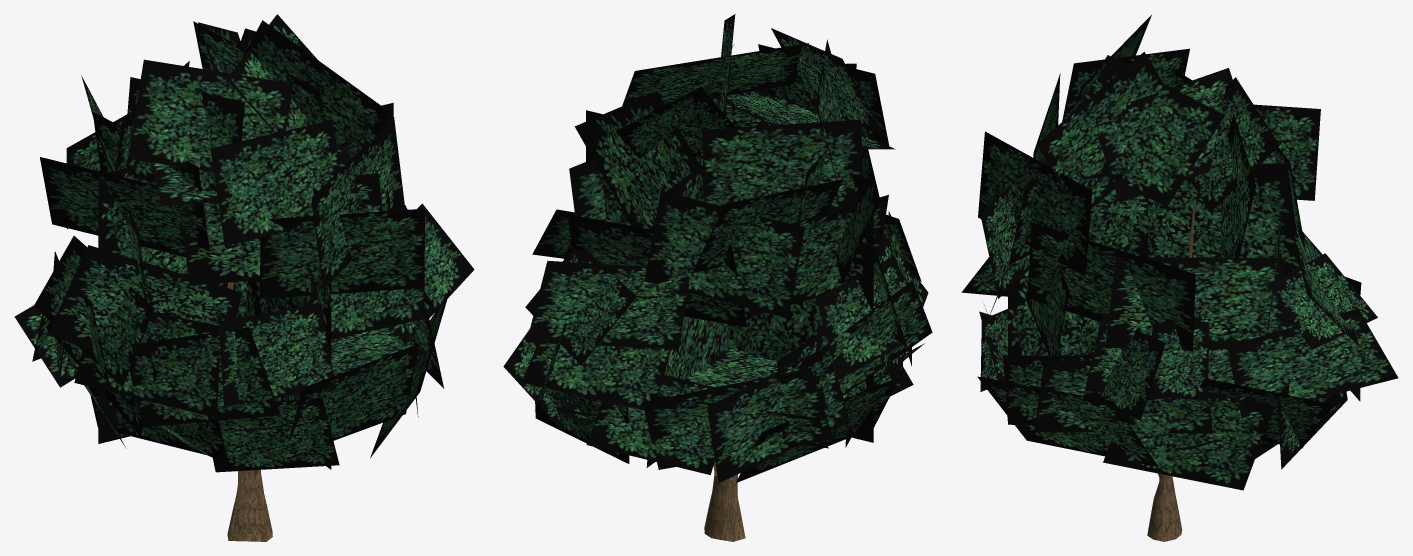
File: gen_tree_d.fbx
The picture shows the model from 3 angles, left to right: view 1: azimuth 30°, elevation 25°; view 2: azimuth 150°, elevation 25°; view 3: azimuth 270°, elevation 25°; orthographic projection. The views are drawn at different scales.
Visible parts, largest first — view 1: leaves, leaves_center_z, trunk_high1, leaves_center_x1, leaves_center_x; view 2: leaves, leaves_40, leaves_center_z, leaves_center_x, leaves_41, leaves_center_x1, trunk_high1; view 3: leaves, leaves_center_x, leaves_41, trunk_high1, leaves_40.
Part boxes in pixels (<box>): leaves: <box>14,14,474,472</box>; leaves_center_z: <box>98,102,393,443</box>; trunk_high1: <box>227,282,272,541</box>; leaves_center_x1: <box>331,326,425,375</box>; leaves_center_x: <box>246,187,331,469</box>; leaves: <box>503,14,932,482</box>; leaves_40: <box>526,260,689,348</box>; leaves_center_z: <box>586,110,873,442</box>; leaves_center_x: <box>646,97,795,467</box>; leaves_41: <box>525,249,636,365</box>; leaves_center_x1: <box>685,347,777,387</box>; trunk_high1: <box>704,461,745,541</box>; leaves: <box>961,15,1398,490</box>; leaves_center_x: <box>1008,163,1300,355</box>; leaves_41: <box>1267,253,1377,349</box>; trunk_high1: <box>1147,203,1195,541</box>; leaves_40: <box>1293,229,1359,346</box>.
Bounding box in the file's own units: 4659 × 5746 × 4730.
2 materials, 2 textured.
